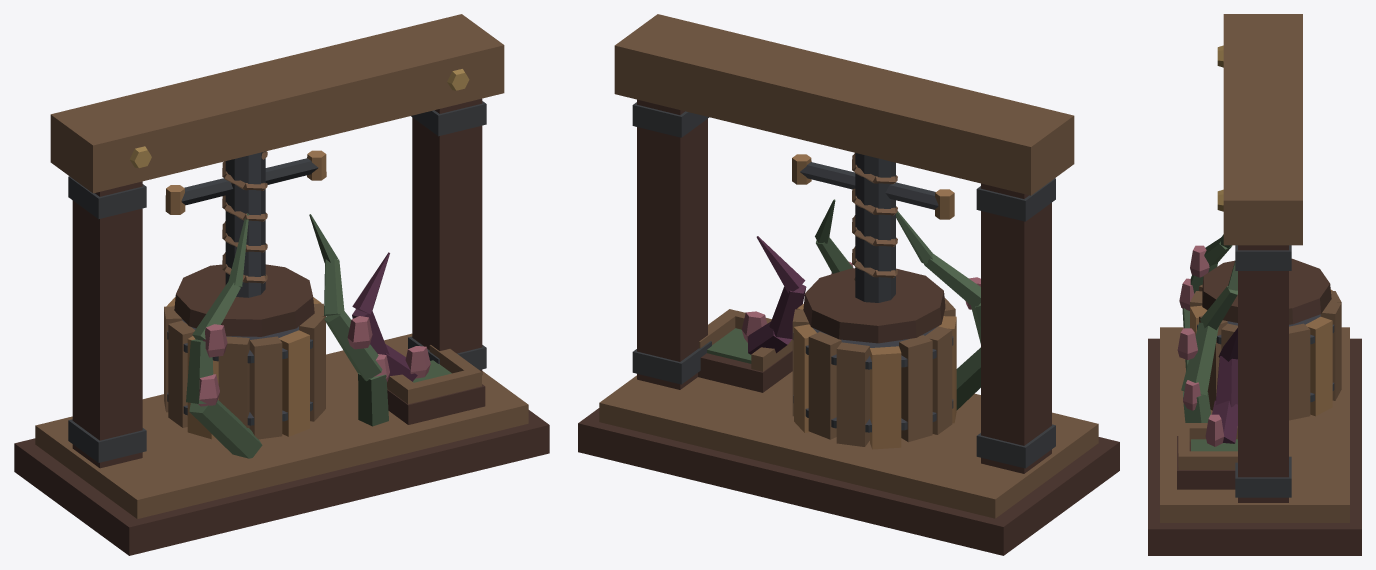
Rendered from wine-press-rootbound.glb.
3 renders of one model, left to right at view 1: azimuth 30°, elevation 25°; view 2: azimuth 150°, elevation 25°; view 3: azimuth 270°, elevation 25°, orthographic. The views are drawn at different scales.
Visible parts, largest first — view 1: Winery press · rootbound; view 2: Winery press · rootbound; view 3: Winery press · rootbound.
Boxes of the visible parts, <box> form: Winery press · rootbound: <box>14,14,549,555</box>; Winery press · rootbound: <box>578,14,1119,555</box>; Winery press · rootbound: <box>1148,14,1361,555</box>.
Bounding box in the file's own units: 1.88 × 1.62 × 0.89.
